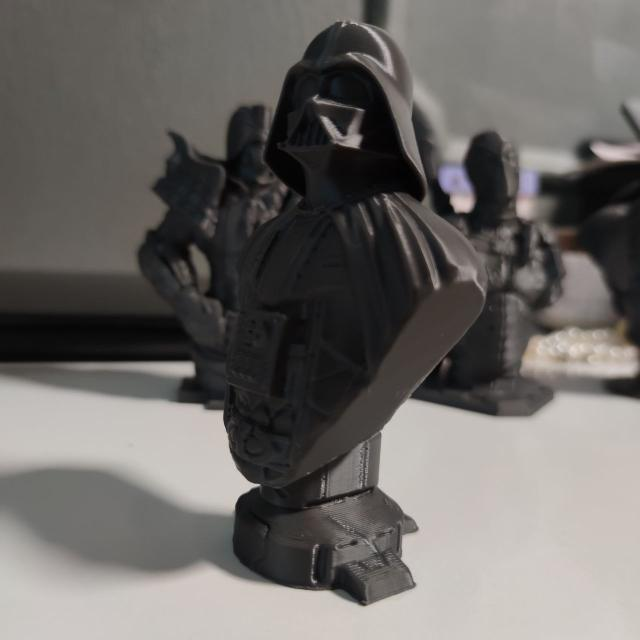Without deffect: (134, 0, 547, 612)
